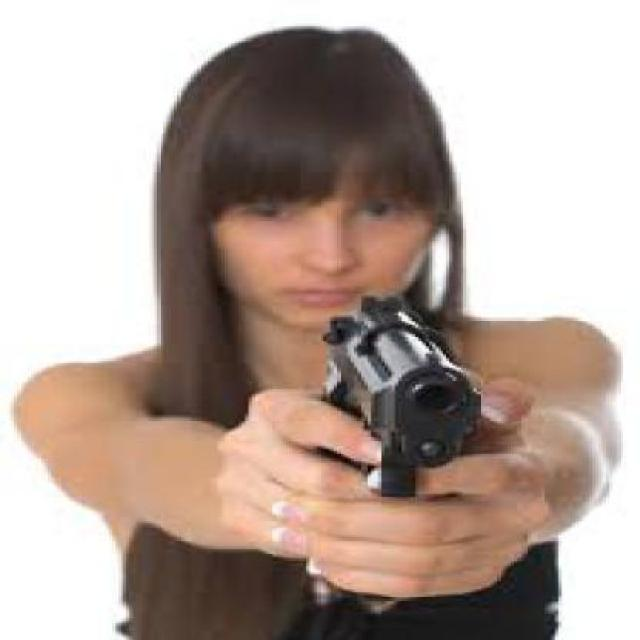weapon: (293, 282, 507, 618)
